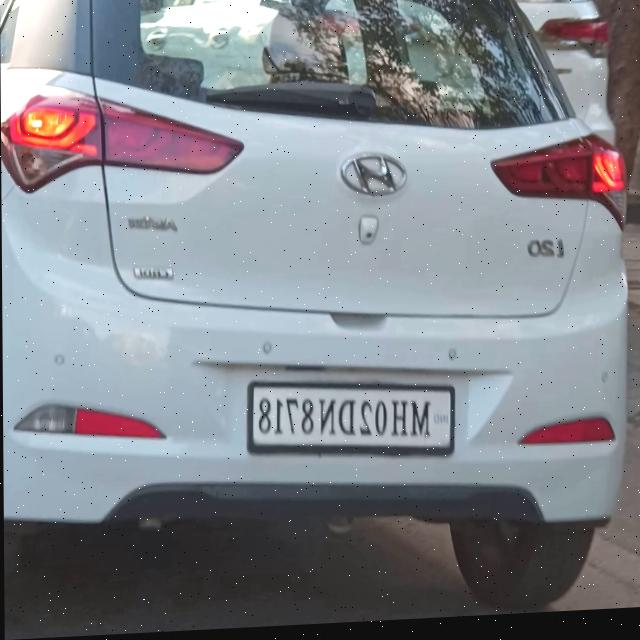plate: (241, 372, 460, 471)
